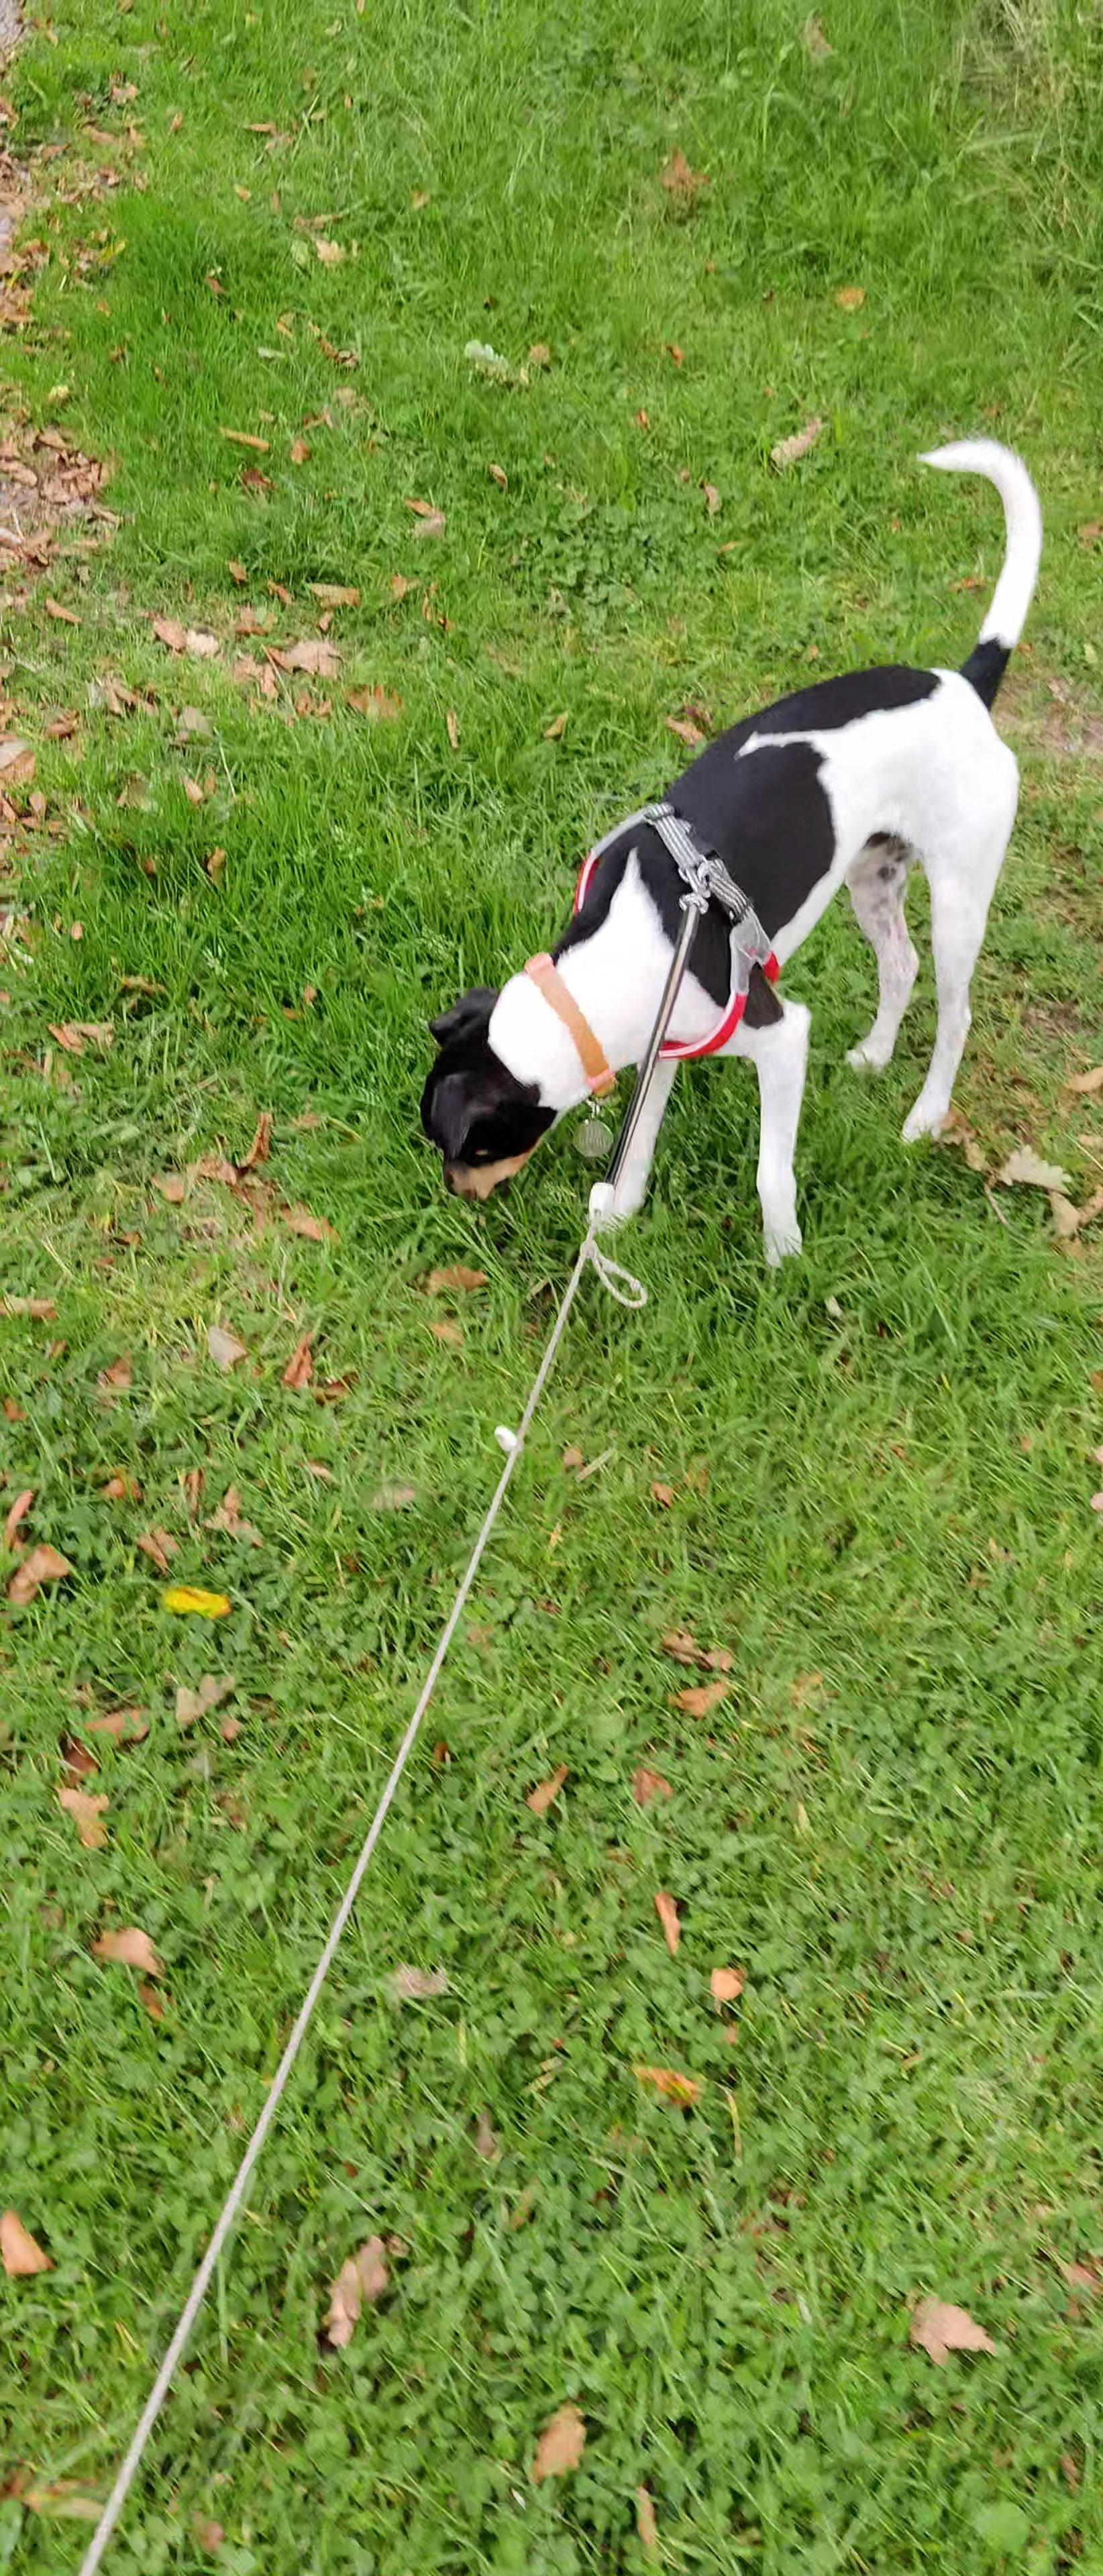Dog: (413, 429, 1050, 1267)
